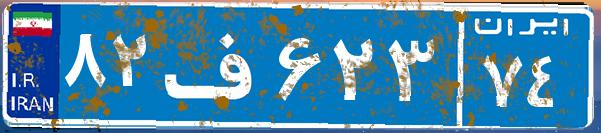2: (330, 28, 385, 110), (110, 28, 158, 105)
3: (385, 28, 445, 110)
4: (525, 38, 570, 115)
6: (273, 28, 330, 110)
7: (475, 38, 525, 113)
8: (57, 26, 110, 107)
ف: (158, 15, 273, 115)
